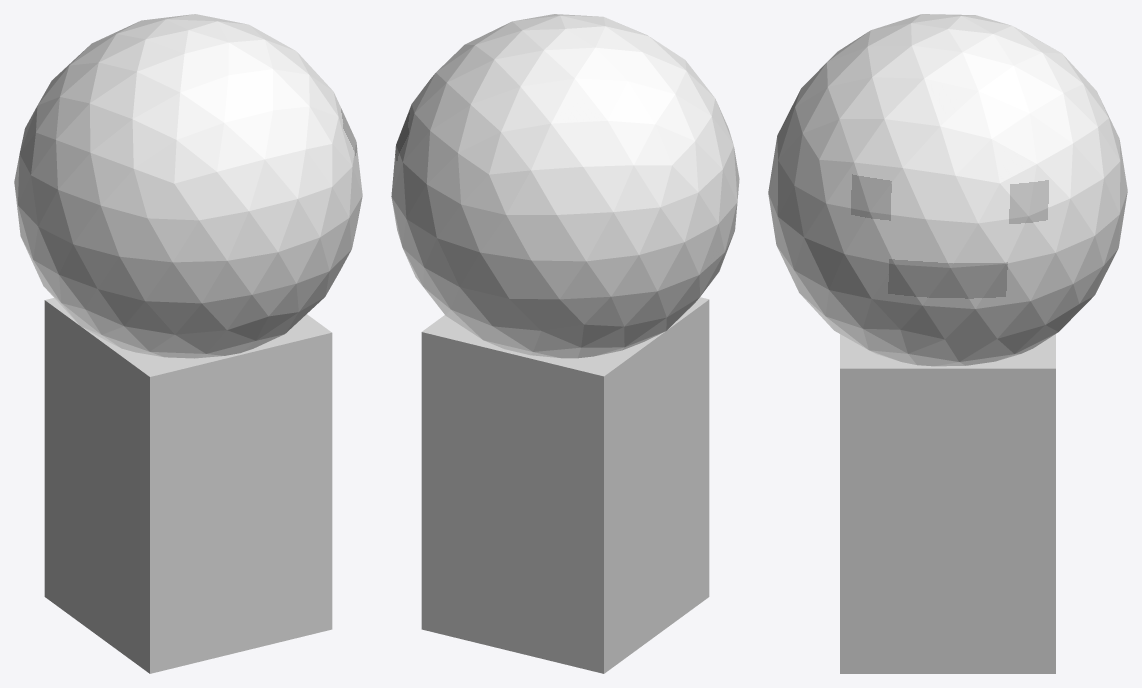
Rendered from HomelessMan.fbx.
3 renders of one model, left to right at view 1: azimuth 30°, elevation 25°; view 2: azimuth 150°, elevation 25°; view 3: azimuth 270°, elevation 25°, orthographic. The views are drawn at different scales.
Visible parts, largest first — view 1: Icosphere; view 2: Icosphere; view 3: Icosphere.
Boxes of the visible parts, <box> form: Icosphere: <box>14,14,362,673</box>; Icosphere: <box>391,14,739,673</box>; Icosphere: <box>768,14,1127,673</box>.
Bounding box in the file's own units: 275 × 506 × 275.
2 materials, 1 textured.
